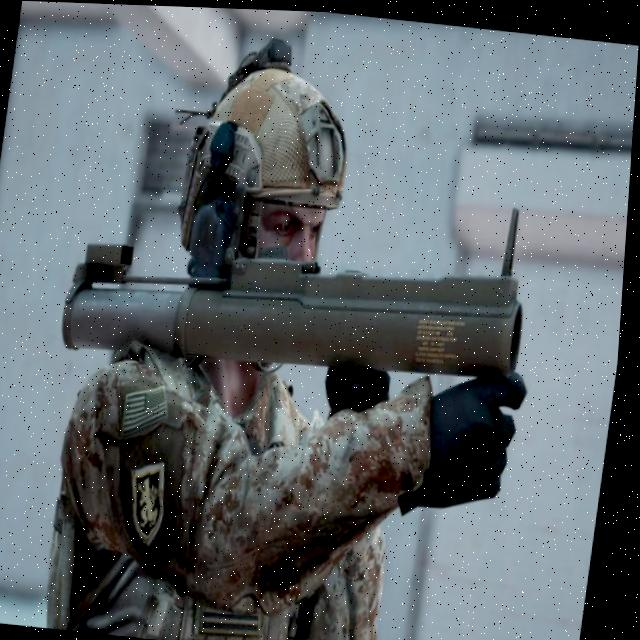rocket: (42, 195, 583, 453)
